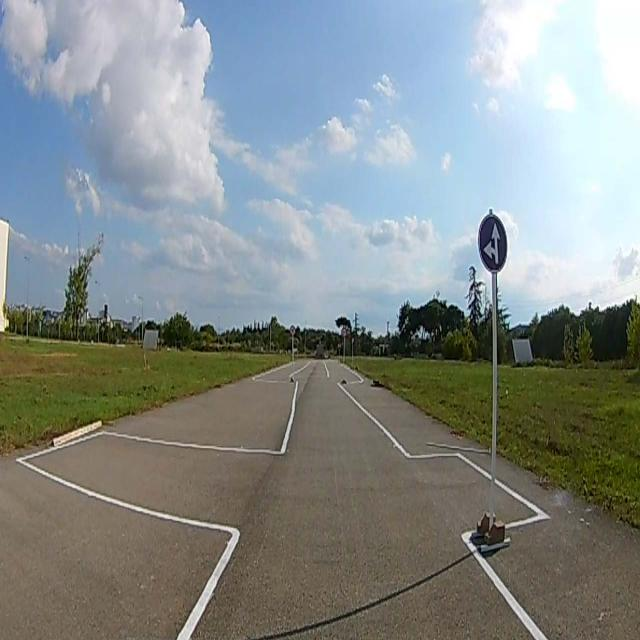ilerisol: (479, 214, 508, 271)
